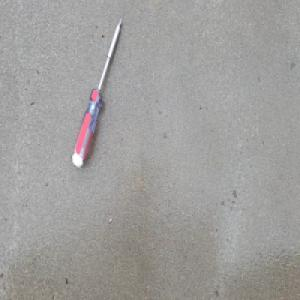Screwdriver: (69, 15, 124, 170)
